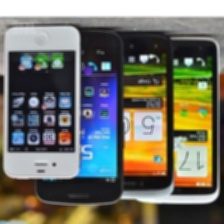phone: (33, 25, 126, 208), (128, 33, 221, 207), (89, 28, 177, 202), (1, 22, 83, 182)
